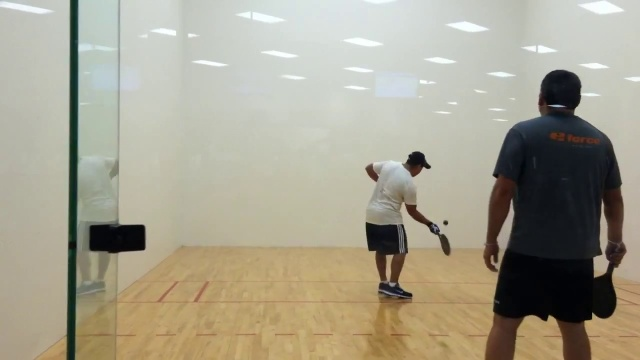person: (481, 64, 626, 360), (362, 148, 445, 303)
